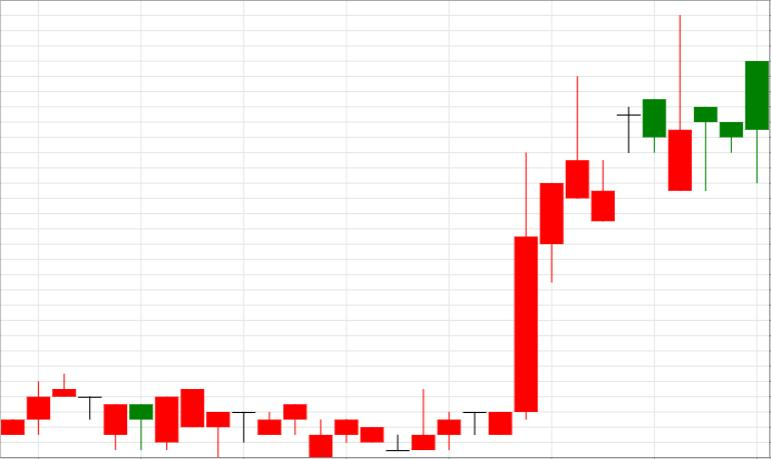shooting_star_fall: (411, 77, 589, 450)
